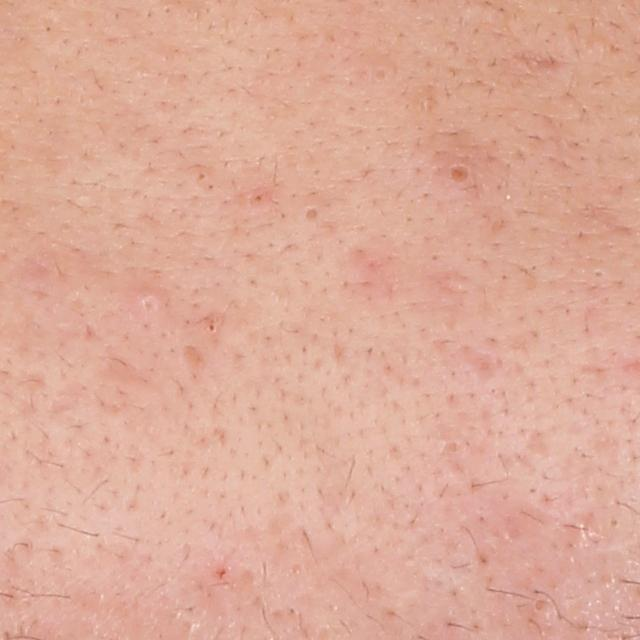atrophic_scar: (452, 341, 512, 387)
comedo: (440, 156, 484, 192), (530, 594, 549, 617), (303, 204, 324, 223), (207, 322, 218, 334)
